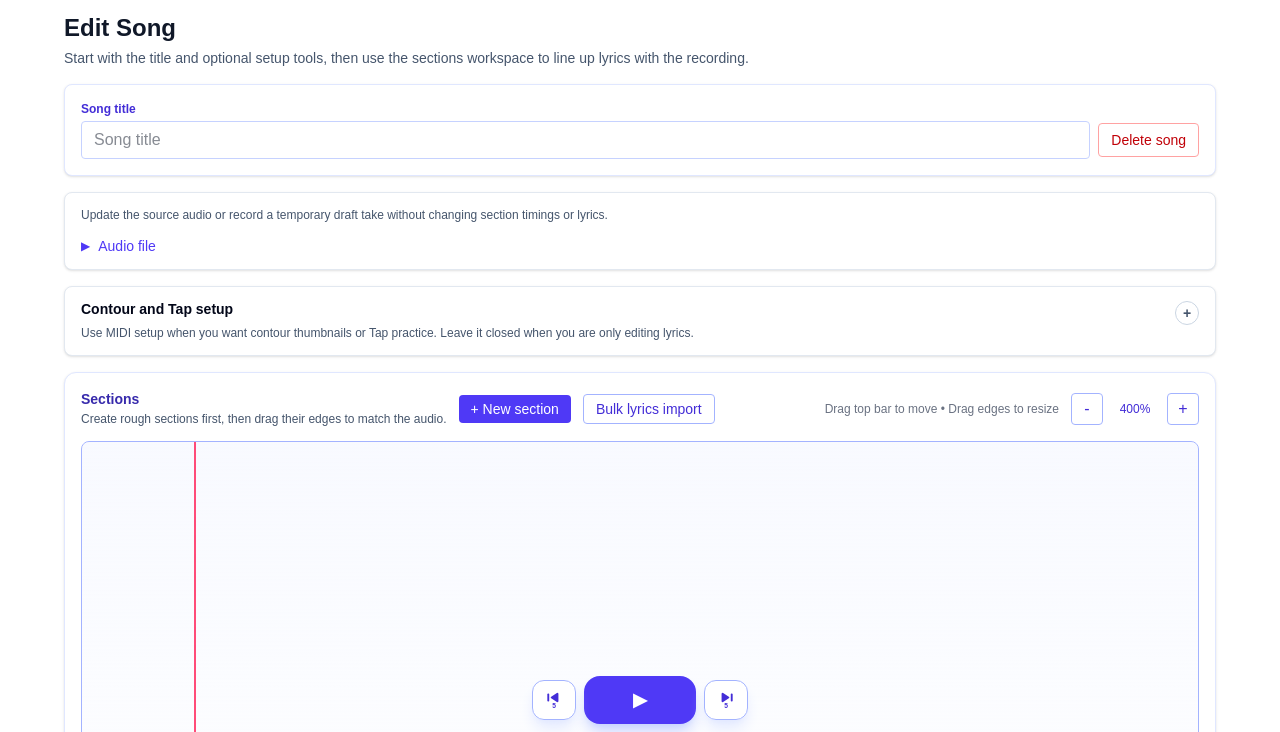
SegmentEditor › does not expose the retired manual contour recorder
Step 1. Click the button with test id "segment-editor-midi-panel-toggle" → [157, 309], box [65, 287, 1215, 355]
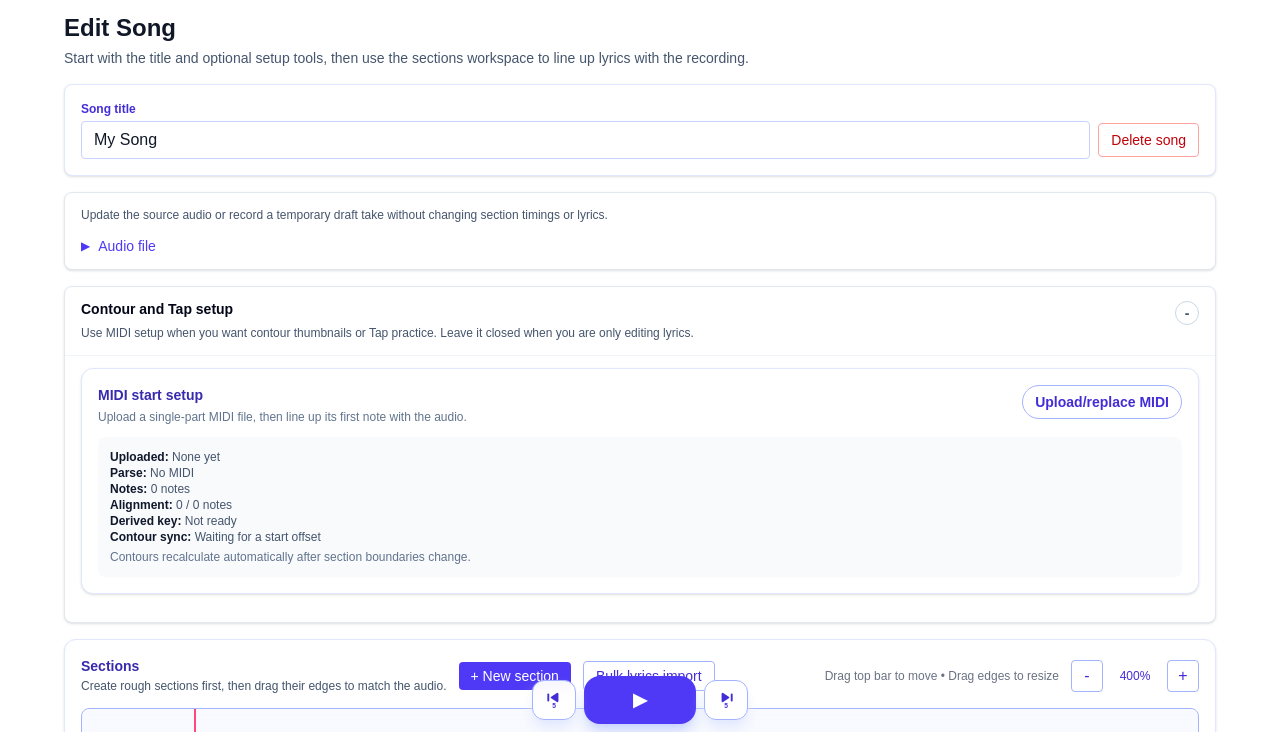
Result: the element with test id "midi-setup-panel" is shown at [81, 368, 1199, 594]
